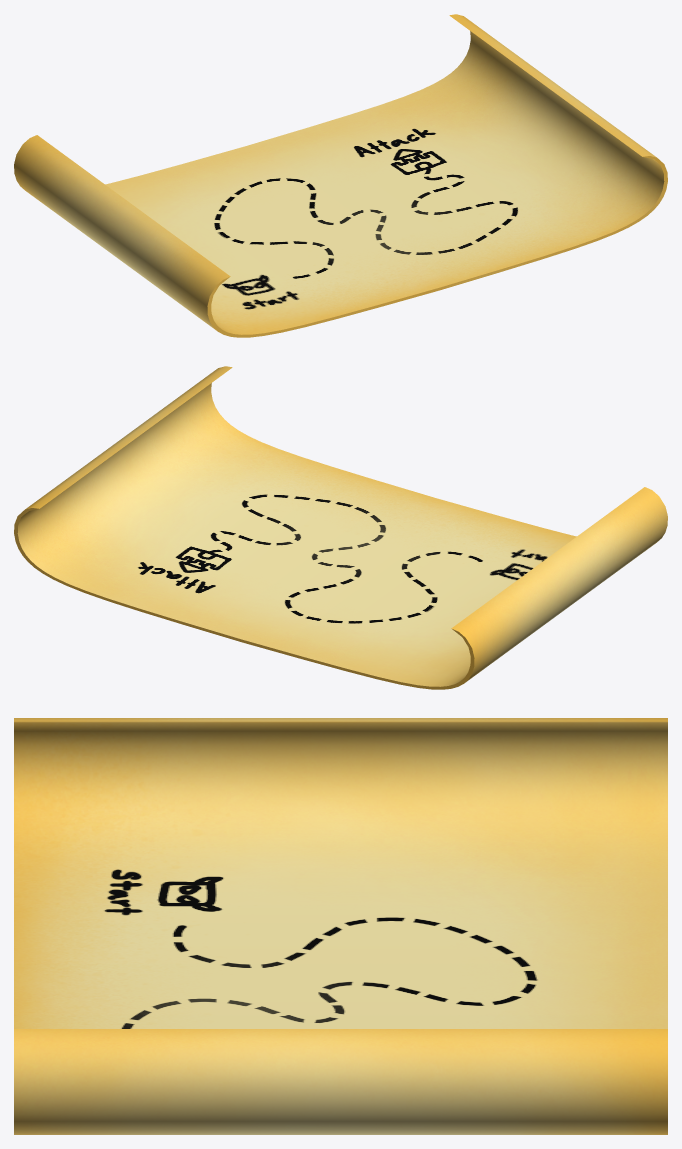
Rendered from map_animation.fbx.
3 views of the same model, one above another, from view 1: azimuth 30°, elevation 25°; view 2: azimuth 150°, elevation 25°; view 3: azimuth 270°, elevation 25° (orthographic). The views are drawn at different scales.
Parts seen in each view (by area): view 1: Map; view 2: Map; view 3: Map.
Part boxes in pixels (<box>): Map: <box>14,14,667,337</box>; Map: <box>14,366,667,689</box>; Map: <box>14,718,667,1134</box>.
Size of the model in its own units: 15.03 by 2.75 by 10.94.
